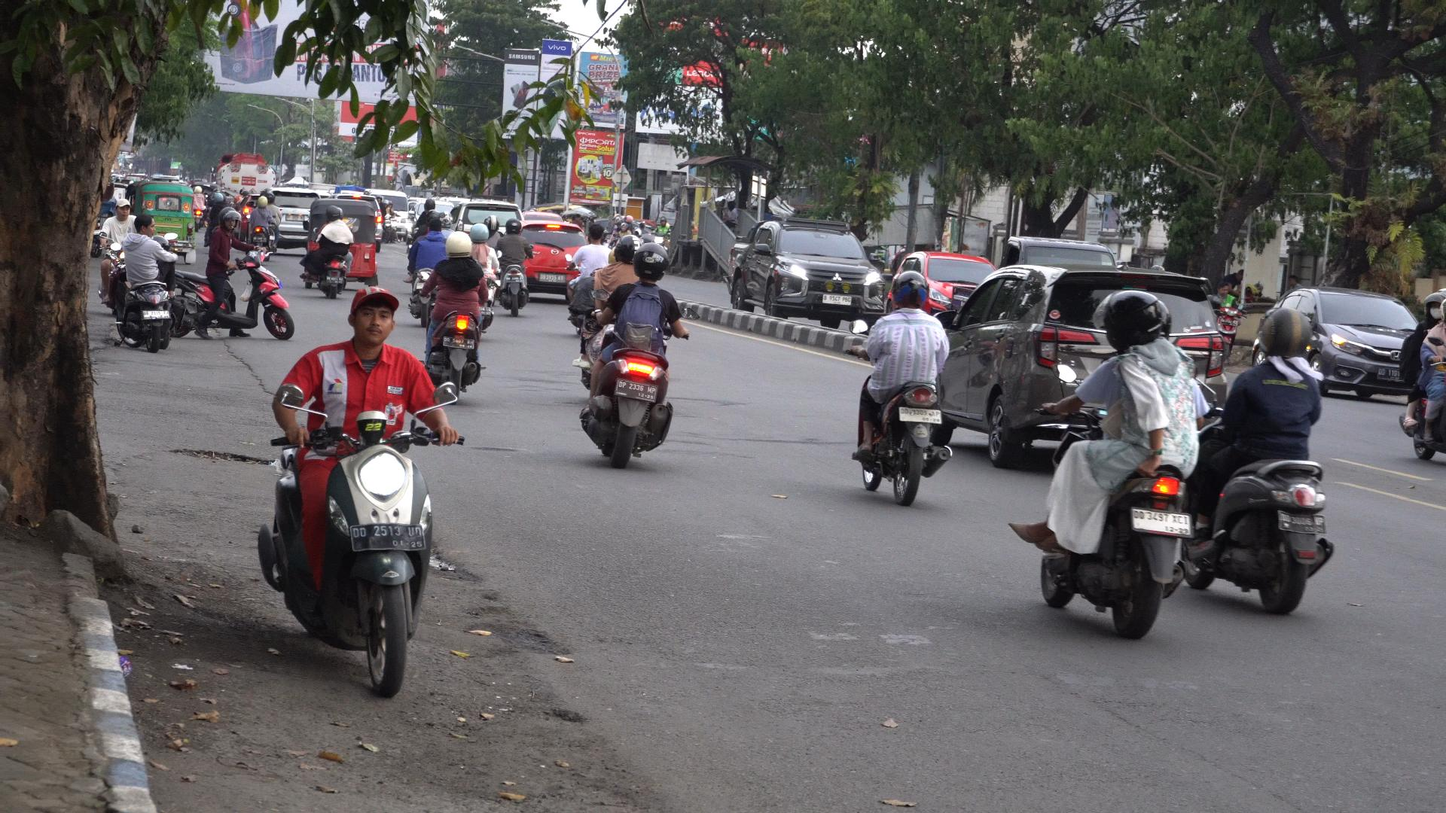number-plate: (349, 522, 425, 554)
